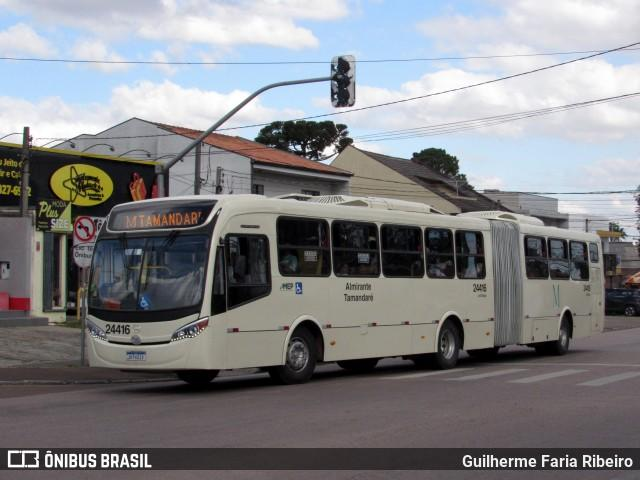TAMANDARE: (137, 207, 209, 230)
